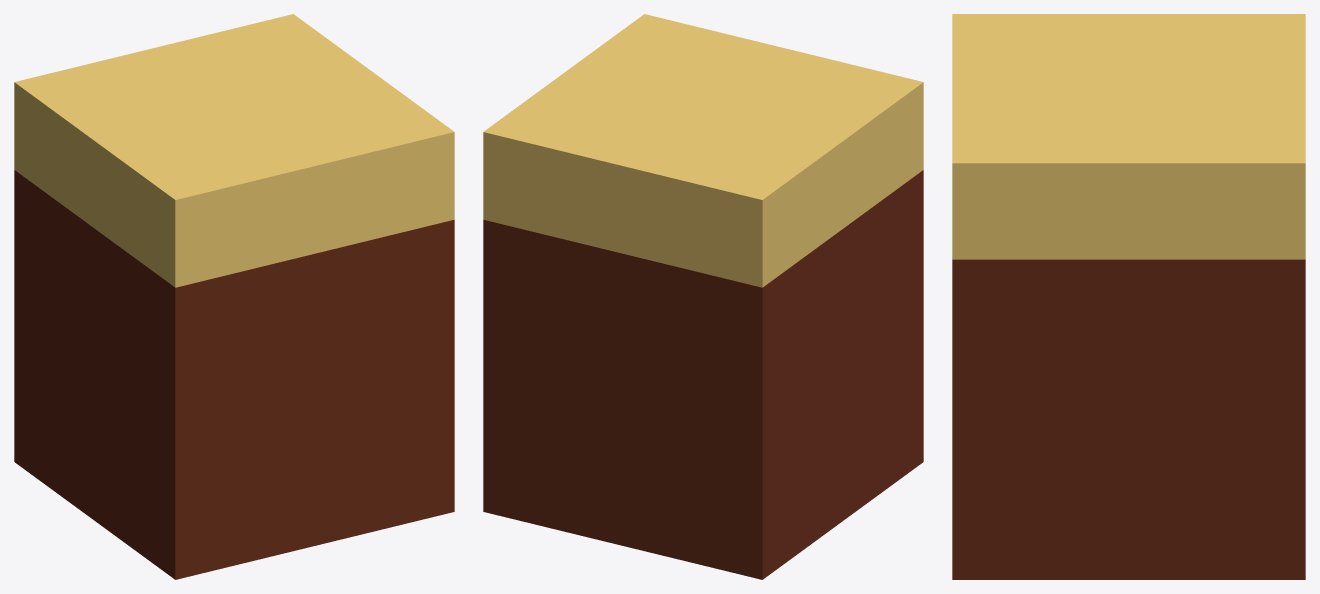
The model's file is SandCentre.fbx.
3 views of the same model, side by side, from view 1: azimuth 30°, elevation 25°; view 2: azimuth 150°, elevation 25°; view 3: azimuth 270°, elevation 25° (orthographic). The views are drawn at different scales.
Visible parts, largest first — view 1: Centre; view 2: Centre; view 3: Centre.
Part boxes in pixels (x1,y1,x2,y2): Centre: (14, 14, 454, 579); Centre: (483, 14, 923, 579); Centre: (952, 14, 1305, 579).
Size of the model in its own units: 100 by 130 by 100.
